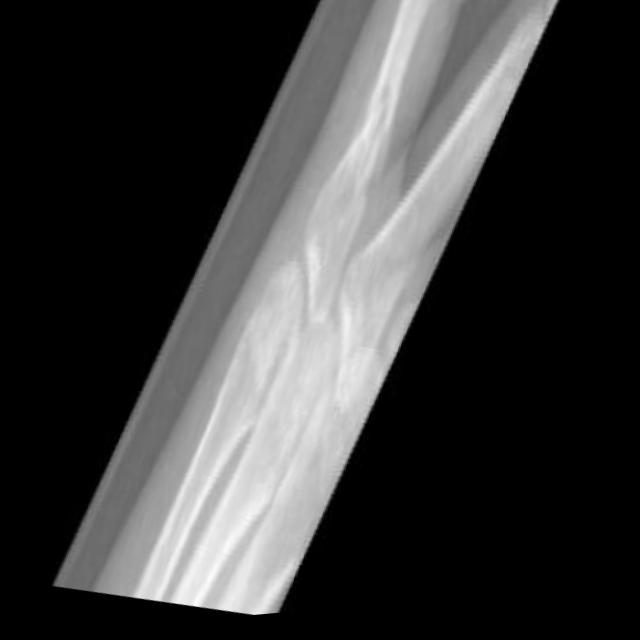fracture: (333, 46, 419, 222)
